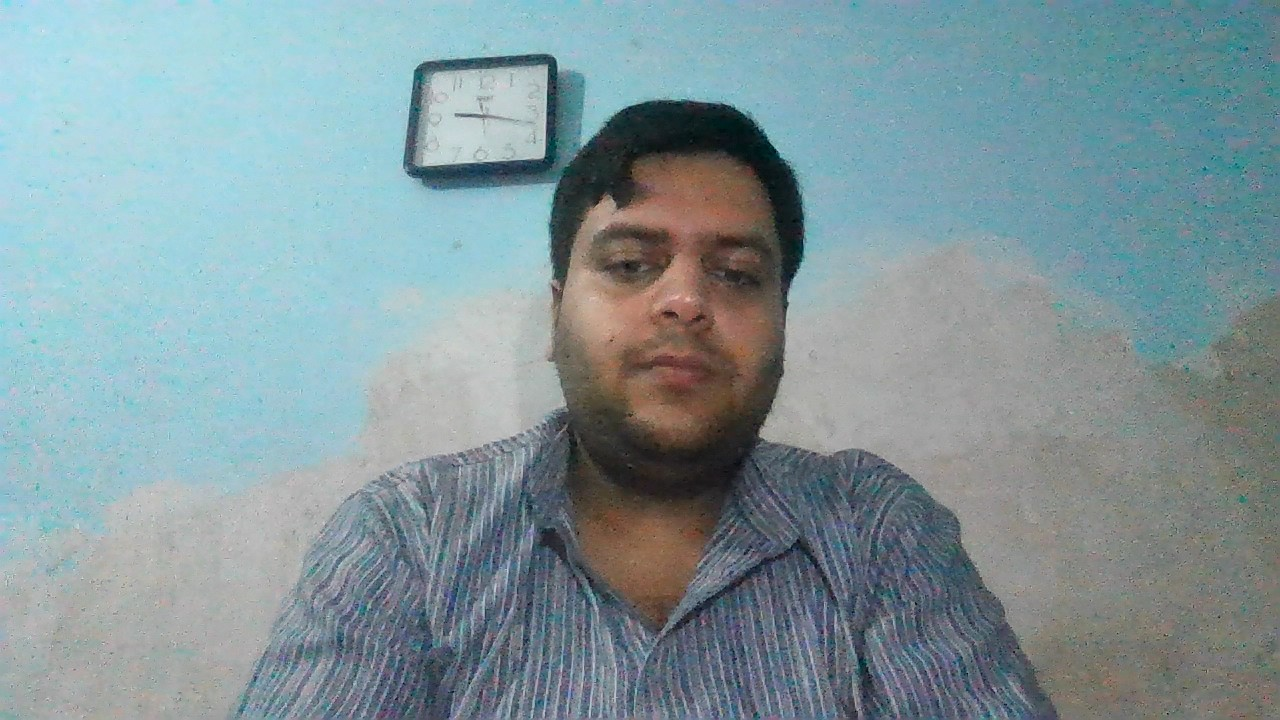No Mask: (545, 282, 794, 483)
